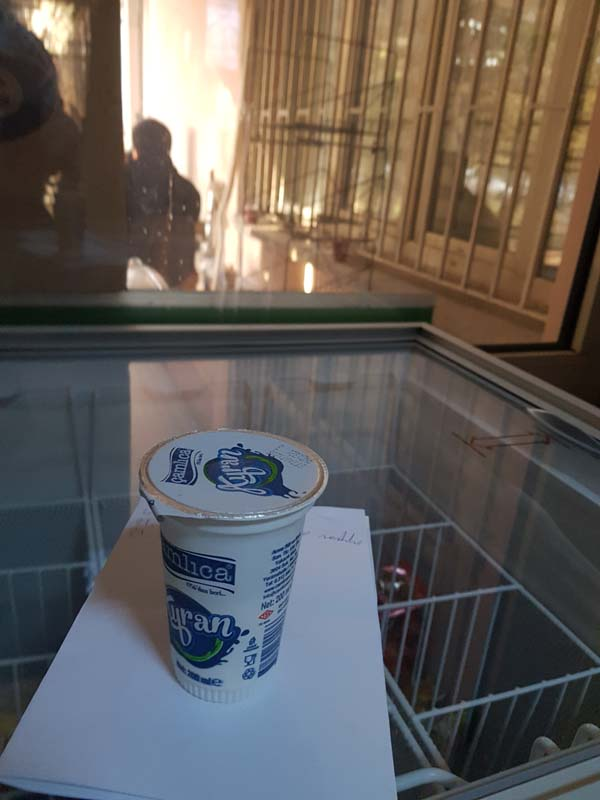camlicaayran: (137, 423, 335, 705)
